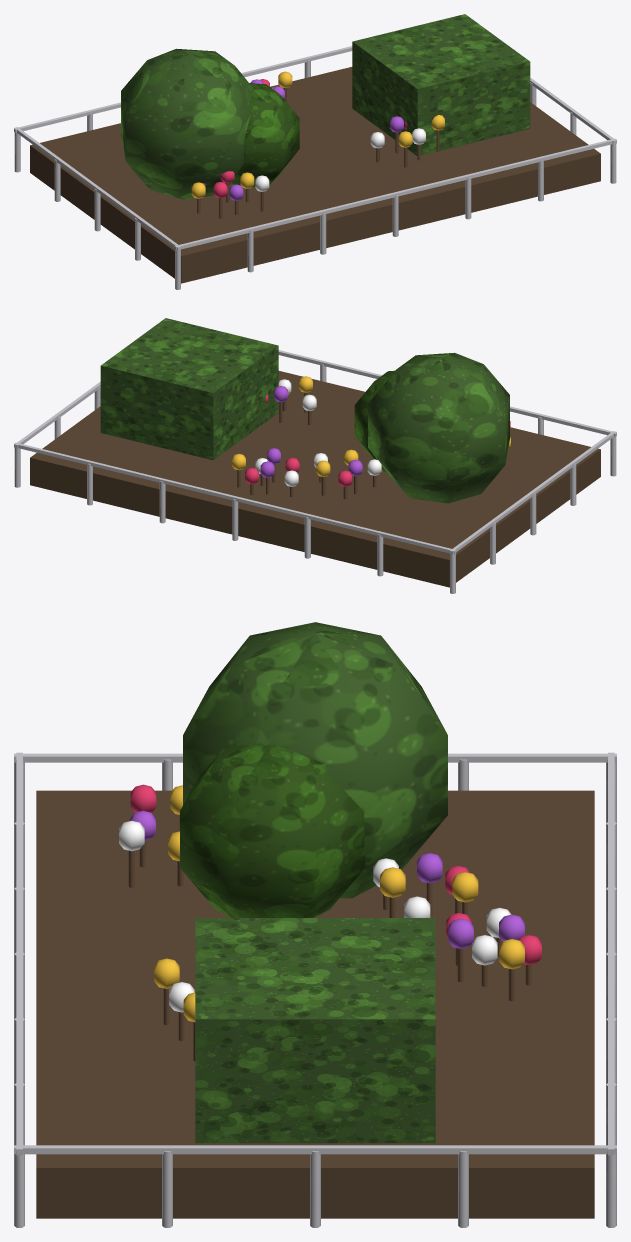
3 views of the same model, one above another, from view 1: azimuth 30°, elevation 25°; view 2: azimuth 150°, elevation 25°; view 3: azimuth 270°, elevation 25° (orthographic). The views are drawn at different scales.
Size of the model in its own units: 8.4 by 2.8 by 5.4.
9 materials, 2 textured.
